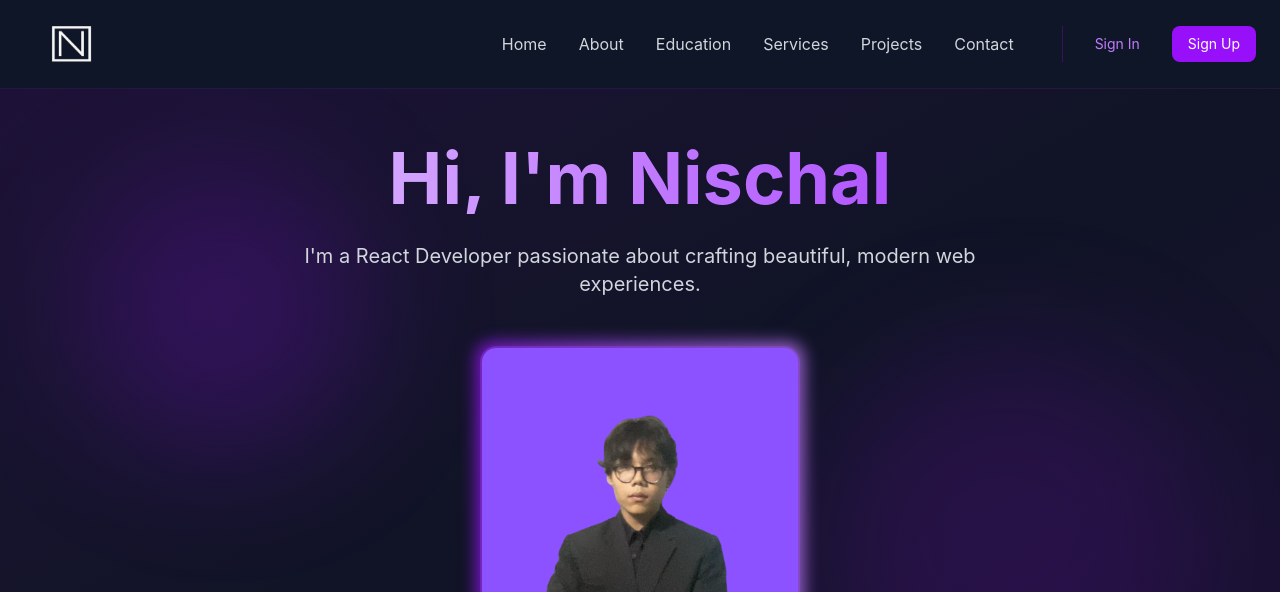
Test: Navigation Tests › should navigate to Contact page
The width and height of the screenshot is (1280, 592).
Click the link to "/contact": (984, 44) [954, 32, 1013, 56]
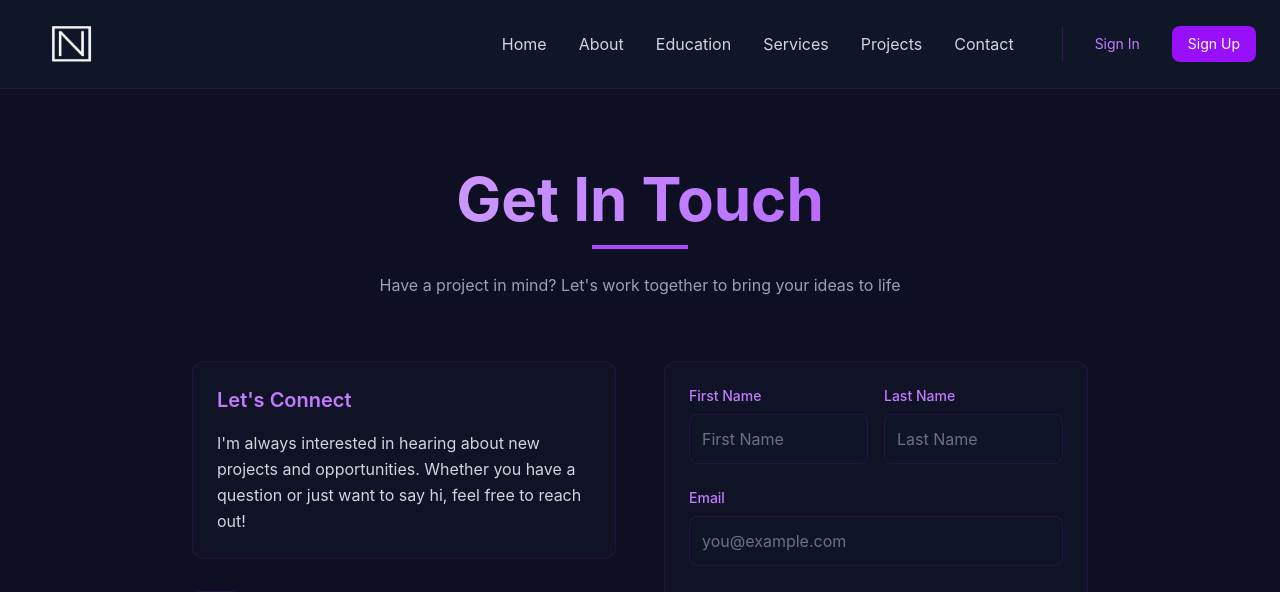
Check: the heading "Get In Touch" is shown, box [192, 169, 1088, 229]
